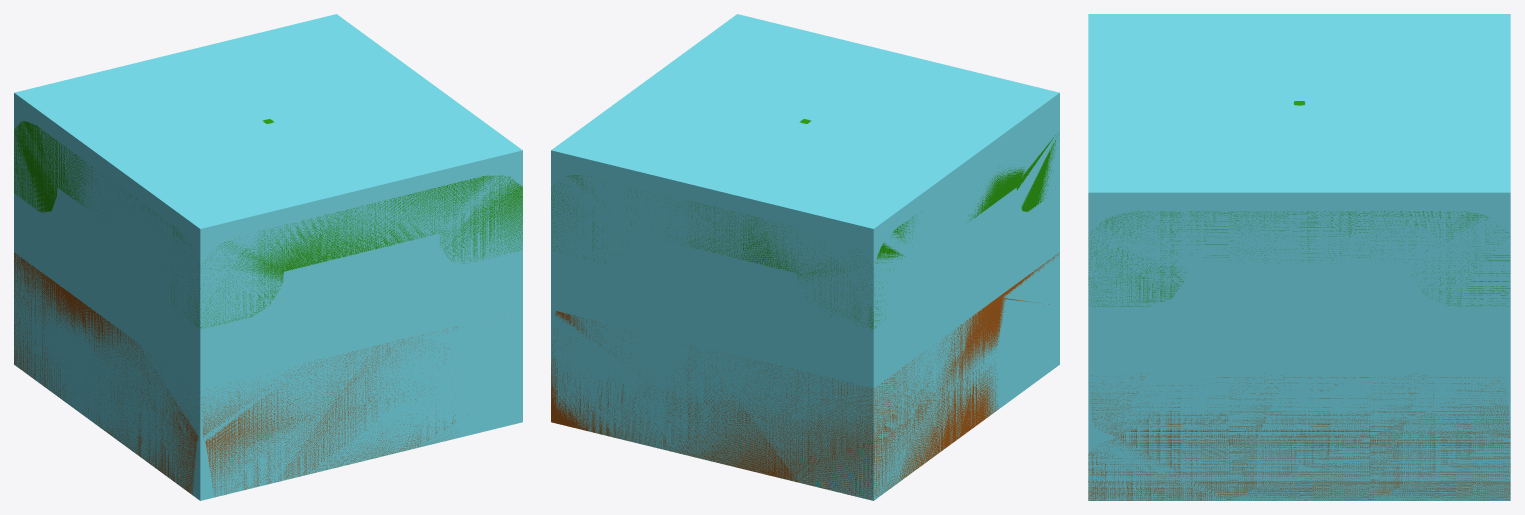
File: PBOX33_Grass_02.FBX
The picture shows the model from 3 angles, left to right: view 1: azimuth 30°, elevation 25°; view 2: azimuth 150°, elevation 25°; view 3: azimuth 270°, elevation 25°; orthographic projection. The views are drawn at different scales.
Parts seen in each view (by area): view 1: PBOX33_Grass_02, PBOX33_SUB_Grass_02, PBOX33_SUB_TAB_MUD_01; view 2: PBOX33_Grass_02, PBOX33_SUB_TAB_MUD_01, PBOX33_SUB_Grass_02; view 3: PBOX33_Grass_02, PBOX33_SUB_TAB_MUD_01, PBOX33_SUB_Grass_02.
Boxes of the visible parts, x1,y1,x2,y2 form: PBOX33_Grass_02: (14, 14, 522, 500); PBOX33_SUB_Grass_02: (14, 119, 522, 329); PBOX33_SUB_TAB_MUD_01: (14, 253, 457, 496); PBOX33_Grass_02: (551, 14, 1059, 500); PBOX33_SUB_TAB_MUD_01: (551, 252, 1059, 500); PBOX33_SUB_Grass_02: (551, 119, 1058, 329); PBOX33_Grass_02: (1088, 14, 1510, 500); PBOX33_SUB_TAB_MUD_01: (1088, 375, 1510, 500); PBOX33_SUB_Grass_02: (1088, 101, 1510, 306).
Bounding box in the file's own units: 18 × 14.51 × 18.
